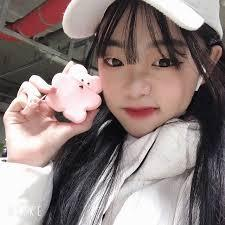earphone: (195, 64, 206, 91)
